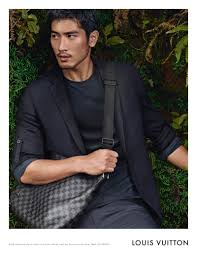asian_male: (35, 4, 99, 85)
